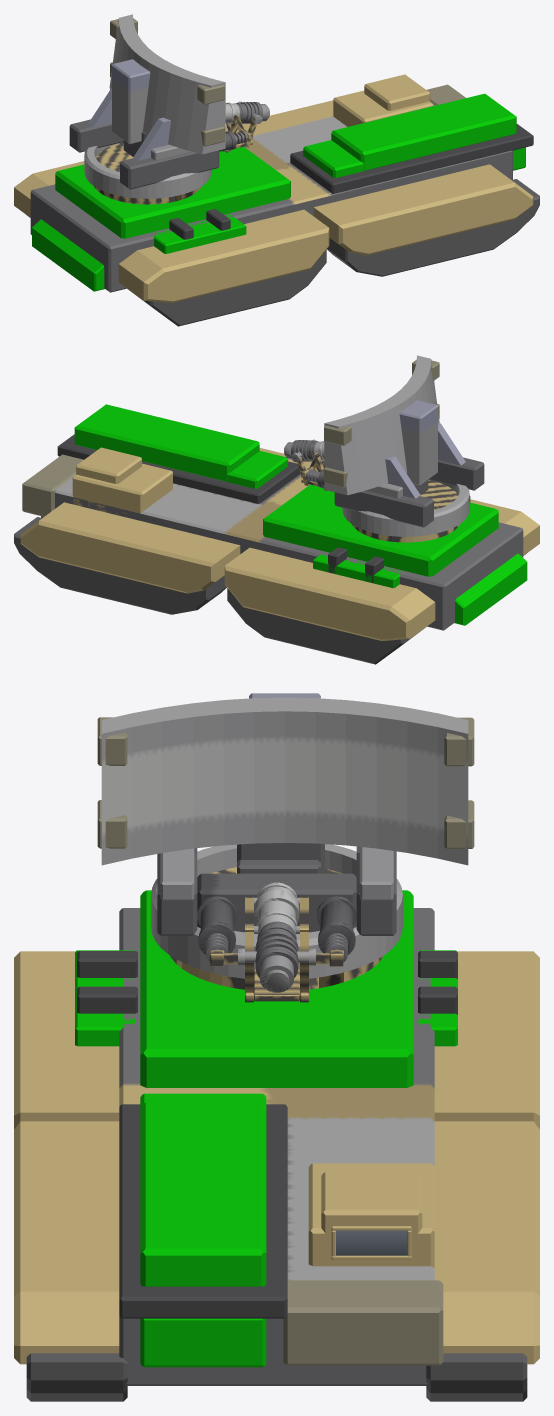
Rendered from disruptor.glb.
The picture shows the model from 3 angles, top to bottom: view 1: azimuth 30°, elevation 25°; view 2: azimuth 150°, elevation 25°; view 3: azimuth 270°, elevation 25°; orthographic projection. The views are drawn at different scales.
Visible parts, largest first — view 1: track_cover_2, body, track_cover, rear_deck, front_box_2, belt_2, box_base, belt, dish_post, rear_grille, base_side, dish (+20 smaller); view 2: body, track_cover_4, track_cover_3, rear_deck, front_box_2, belt_4, belt_3, ochre_box, dish_post, box_base, rear_grille, base_side_2 (+16 smaller); view 3: rear_deck, body, track_cover_2, track_cover_4, front_box_2, track_cover_3, track_cover, front_plate, box_base, front_low, ochre_box_2, ochre_box (+35 smaller).
Boxes of the visible parts, <box> form: track_cover_2: <box>313,164,533,255</box>; body: <box>30,105,512,292</box>; track_cover: <box>118,209,329,302</box>; rear_deck: <box>55,146,290,238</box>; front_box_2: <box>331,93,516,170</box>; belt_2: <box>327,179,539,276</box>; box_base: <box>290,124,533,193</box>; belt: <box>128,250,326,326</box>; dish_post: <box>112,59,150,144</box>; rear_grille: <box>32,219,104,291</box>; base_side: <box>120,150,219,189</box>; dish: <box>187,78,225,154</box>; body: <box>41,474,523,630</box>; track_cover_4: <box>20,502,240,593</box>; track_cover_3: <box>224,547,435,640</box>; rear_deck: <box>263,484,498,576</box>; front_box_2: <box>74,404,259,481</box>; belt_4: <box>14,517,226,614</box>; belt_3: <box>227,588,424,664</box>; ochre_box: <box>72,463,172,514</box>; dish_post: <box>399,400,437,485</box>; box_base: <box>57,434,300,503</box>; rear_grille: <box>454,553,527,625</box>; base_side_2: <box>334,491,433,527</box>; rear_deck: <box>140,890,413,1087</box>; body: <box>119,908,434,1385</box>; track_cover_2: <box>14,1121,119,1364</box>; track_cover_4: <box>434,1121,539,1364</box>; front_box_2: <box>140,1102,266,1286</box>; track_cover_3: <box>434,951,539,1129</box>; track_cover: <box>14,951,119,1129</box>; front_plate: <box>283,1280,443,1365</box>; box_base: <box>119,1104,287,1318</box>; front_low: <box>140,1318,266,1367</box>; ochre_box_2: <box>321,1172,422,1234</box>; ochre_box: <box>308,1163,434,1267</box>.
Size of the model in its own units: 1.53 by 0.7233 by 0.8096.
